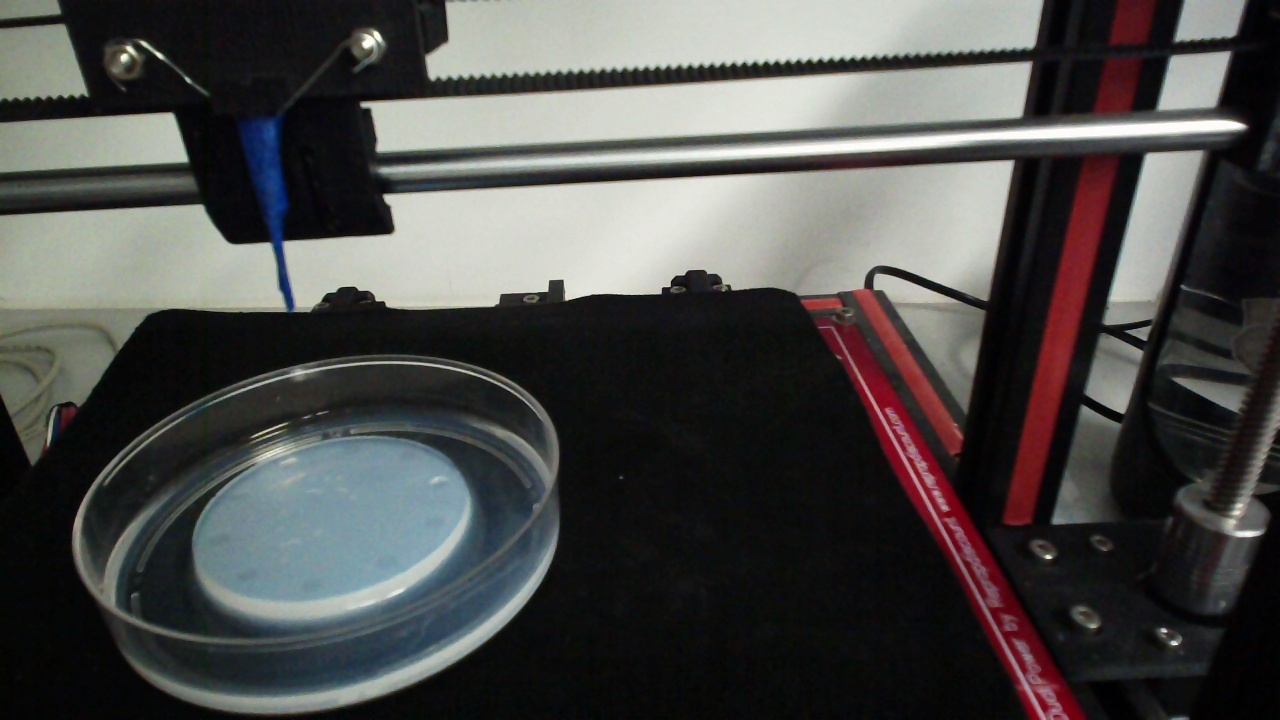groove: (375, 554, 400, 571), (423, 513, 445, 531), (208, 532, 231, 548), (236, 568, 258, 584), (299, 578, 321, 593), (398, 449, 420, 464), (276, 457, 299, 471), (228, 489, 249, 504), (428, 476, 450, 490), (342, 443, 363, 457)
needle: (239, 118, 291, 314)
